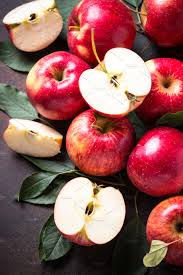apple: (70, 107, 137, 180), (24, 54, 90, 118), (67, 4, 136, 60), (130, 127, 183, 196)
damaged_apple: (54, 174, 128, 245), (83, 50, 152, 115), (3, 1, 67, 53), (3, 113, 64, 161)
